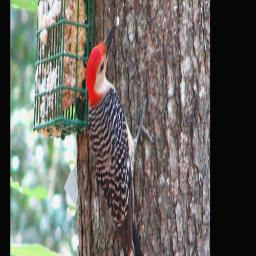Woodpecker: (85, 17, 156, 256)
